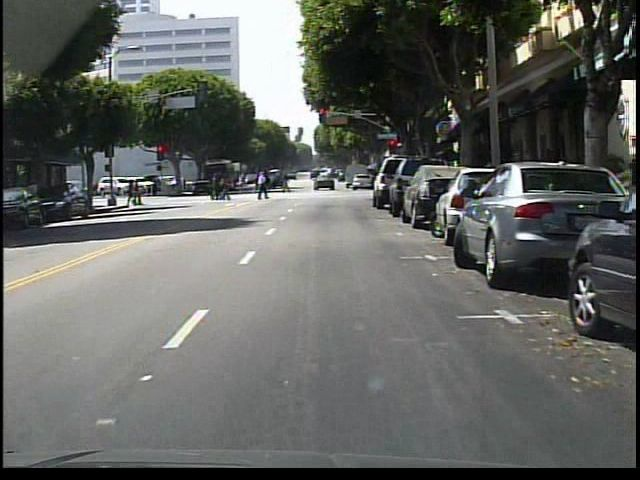person: (251, 169, 272, 202), (276, 169, 292, 198)
